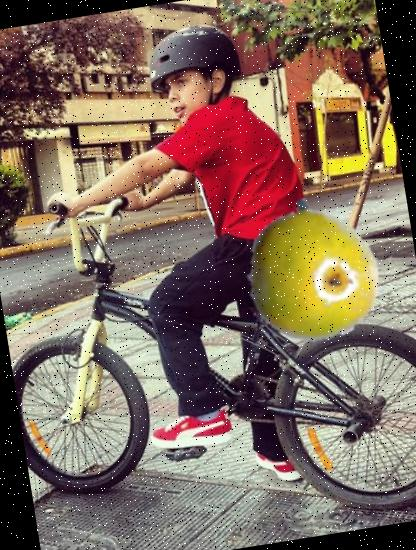Maracuja: (231, 193, 392, 354)
